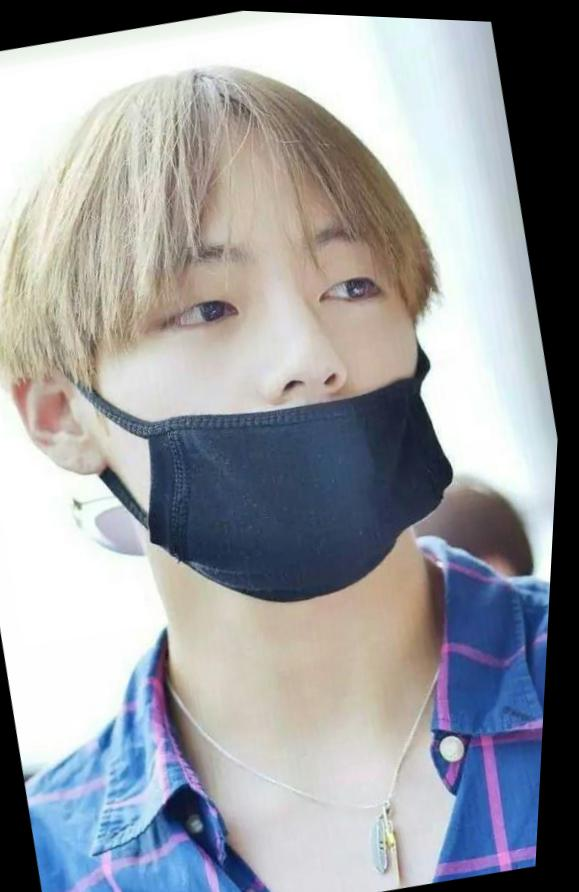WRONG: (60, 160, 481, 629)
